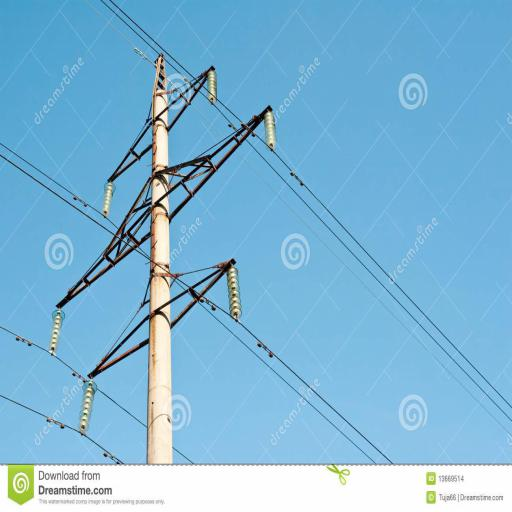mono_9: (53, 50, 279, 461)
